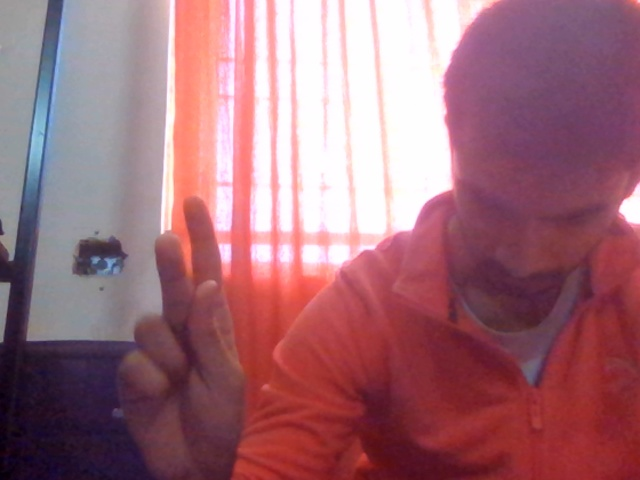K: (89, 169, 278, 480)
